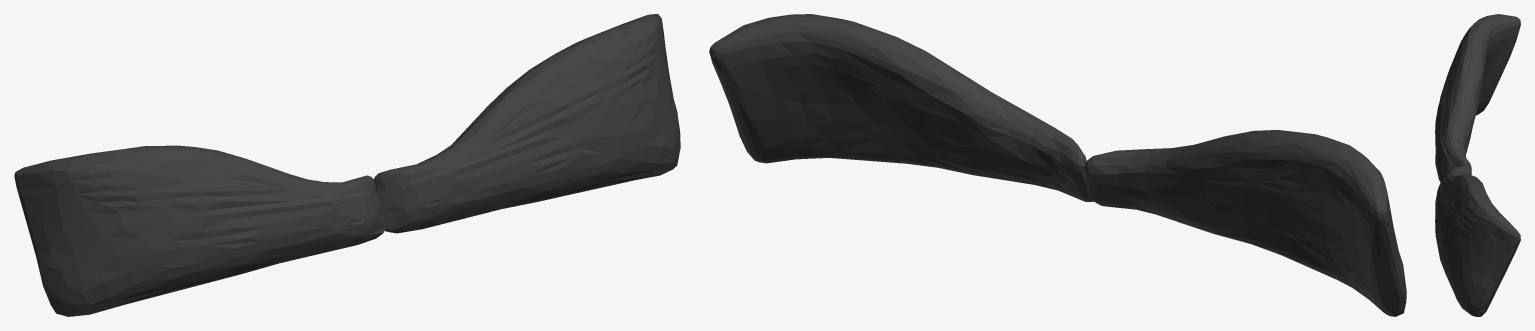
The model's file is m_pectoralis_descendens.glb.
3 renders of one model, left to right at view 1: azimuth 30°, elevation 25°; view 2: azimuth 150°, elevation 25°; view 3: azimuth 270°, elevation 25°, orthographic. The views are drawn at different scales.
Visible parts, largest first — view 1: m_pectoralis_descendens; view 2: m_pectoralis_descendens; view 3: m_pectoralis_descendens.
Part boxes in pixels (<box>): m_pectoralis_descendens: <box>14,14,680,316</box>; m_pectoralis_descendens: <box>709,14,1406,316</box>; m_pectoralis_descendens: <box>1435,14,1520,316</box>.
Size of the model in its own units: 0.00347 by 0.000782 by 0.000575.
1 material, 1 textured.
